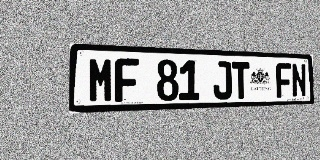1: (179, 60, 199, 100)
8: (157, 59, 178, 101)
F: (115, 58, 139, 102), (276, 63, 292, 98)
J: (213, 61, 232, 100)
M: (88, 57, 114, 103)
N: (291, 63, 307, 97)
T: (232, 61, 250, 99)
